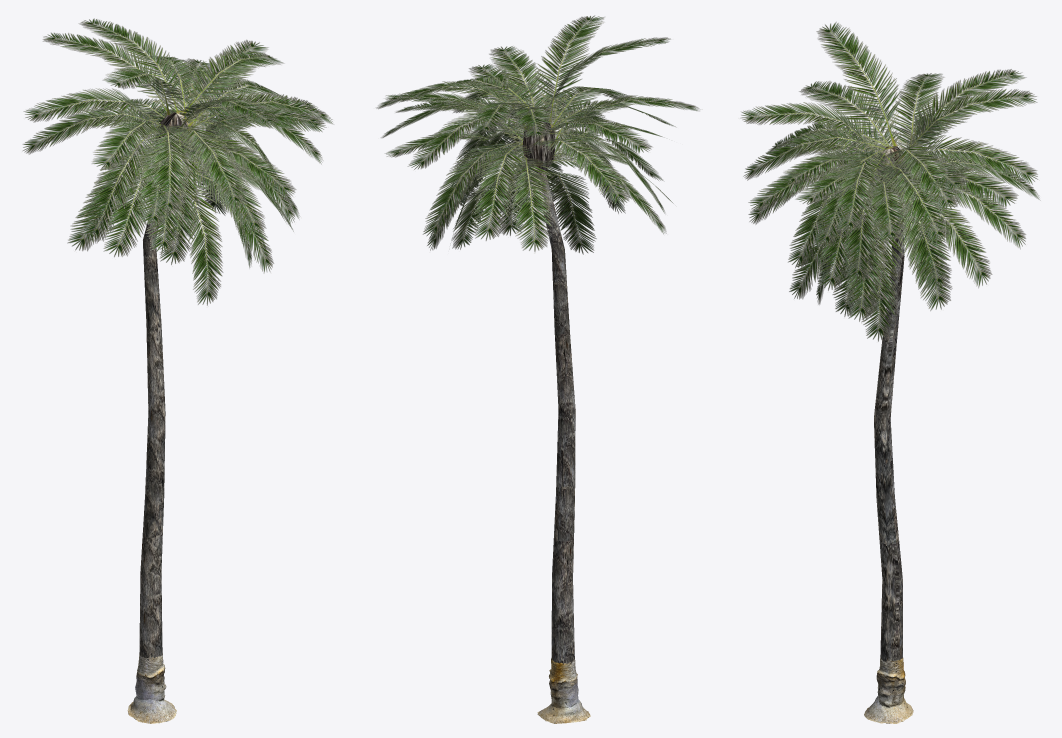
File: coconut_c.glb
The picture shows the model from 3 angles, left to right: view 1: azimuth 30°, elevation 25°; view 2: azimuth 150°, elevation 25°; view 3: azimuth 270°, elevation 25°; orthographic projection. The views are drawn at different scales.
Parts seen in each view (by area): view 1: PALMLOW2_w; view 2: PALMLOW2_w; view 3: PALMLOW2_w.
Part boxes in pixels (x1=…): PALMLOW2_w: x1=22, y1=18, x2=333, y2=723; PALMLOW2_w: x1=376, y1=15, x2=699, y2=723; PALMLOW2_w: x1=740, y1=21, x2=1040, y2=723.
Size of the model in its own units: 4.12 by 9.5 by 4.1.
Materials: 3 (3 with a texture image).
